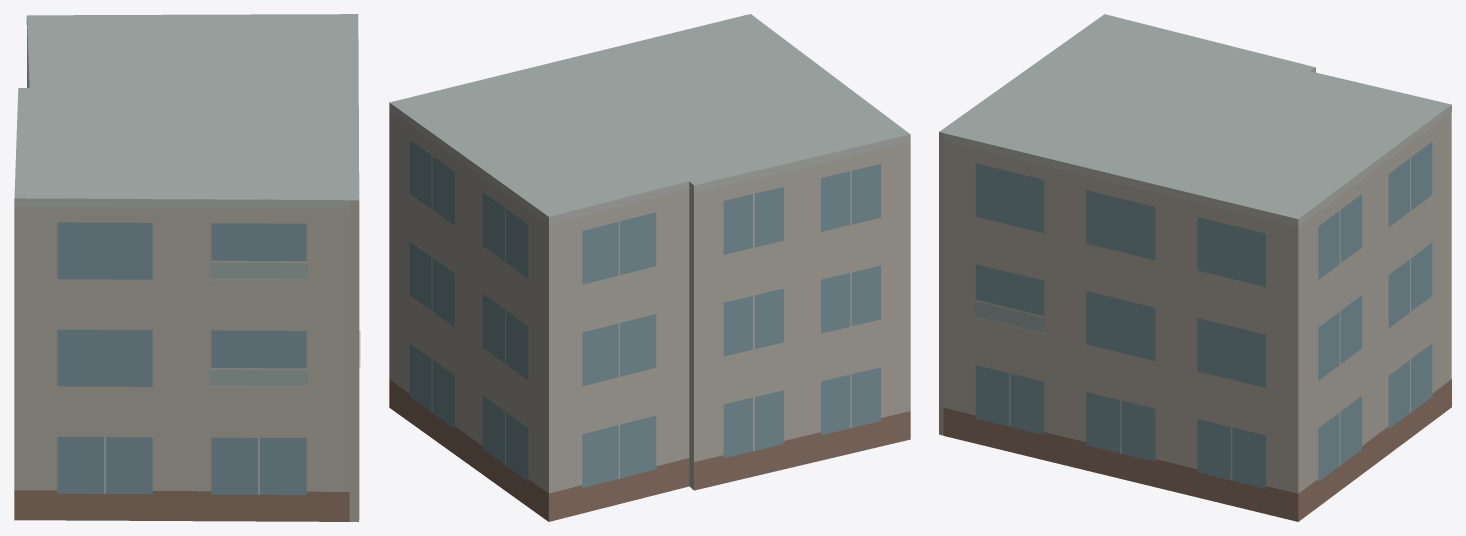
The model's file is survey-upis-32689397.glb.
The picture shows the model from 3 angles, left to right: view 1: azimuth 30°, elevation 25°; view 2: azimuth 150°, elevation 25°; view 3: azimuth 270°, elevation 25°; orthographic projection. The views are drawn at different scales.
Visible parts, largest first — view 1: survey-upis-32689397.tmp; view 2: survey-upis-32689397.tmp; view 3: survey-upis-32689397.tmp.
Part boxes in pixels (x1,y1,x2,y2): survey-upis-32689397.tmp: (14,14,360,521); survey-upis-32689397.tmp: (389,14,910,521); survey-upis-32689397.tmp: (939,14,1451,521).
Bounding box in the file's own units: 13.31 × 9.15 × 14.05.
